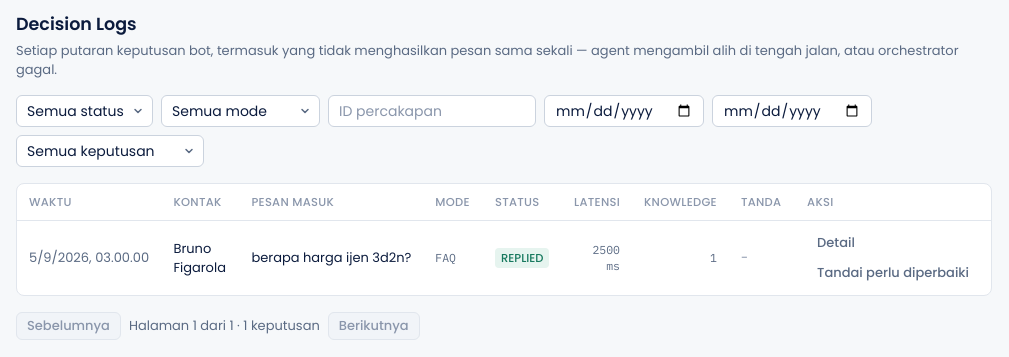
Decision Logs page — flagging › marks a decision, sending the note the operator typed
The image size is (1009, 357).
Expected: the text "berapa harga ijen 3d2n?" is shown, [239, 220, 423, 294]
What coordinates should you click on to do the following:
click the button "Tandai perlu diperbaiki"
I would click on:
 (893, 272)
Its box is [807, 258, 979, 286].
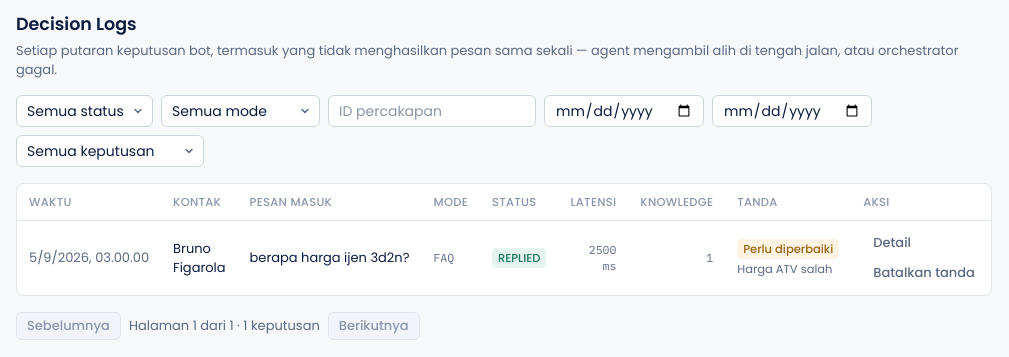
Expected: the text "Perlu diperbaiki" is shown, [737, 238, 839, 258]
Now the text "Harga ATV salah" is shown, box [737, 260, 832, 276]
